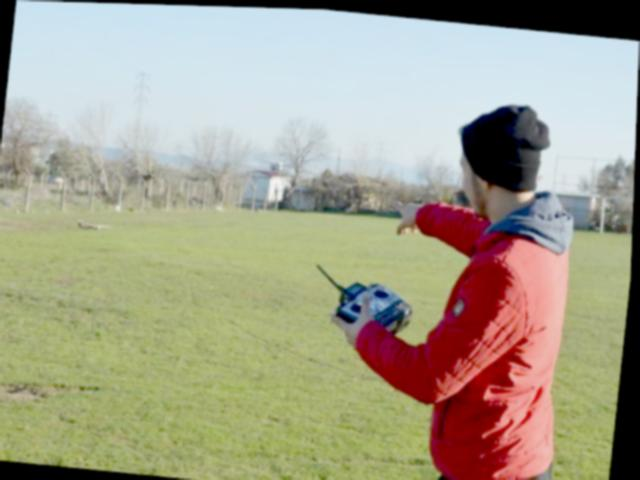iha: (71, 212, 117, 235)
